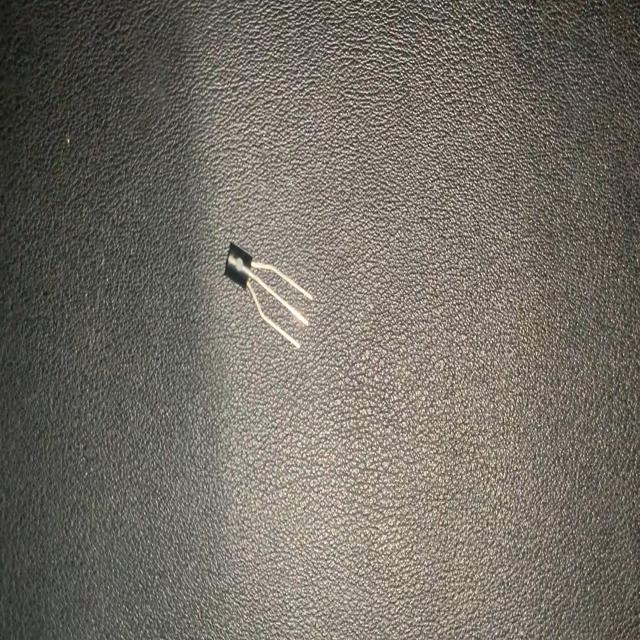BJT: (223, 234, 316, 353)
